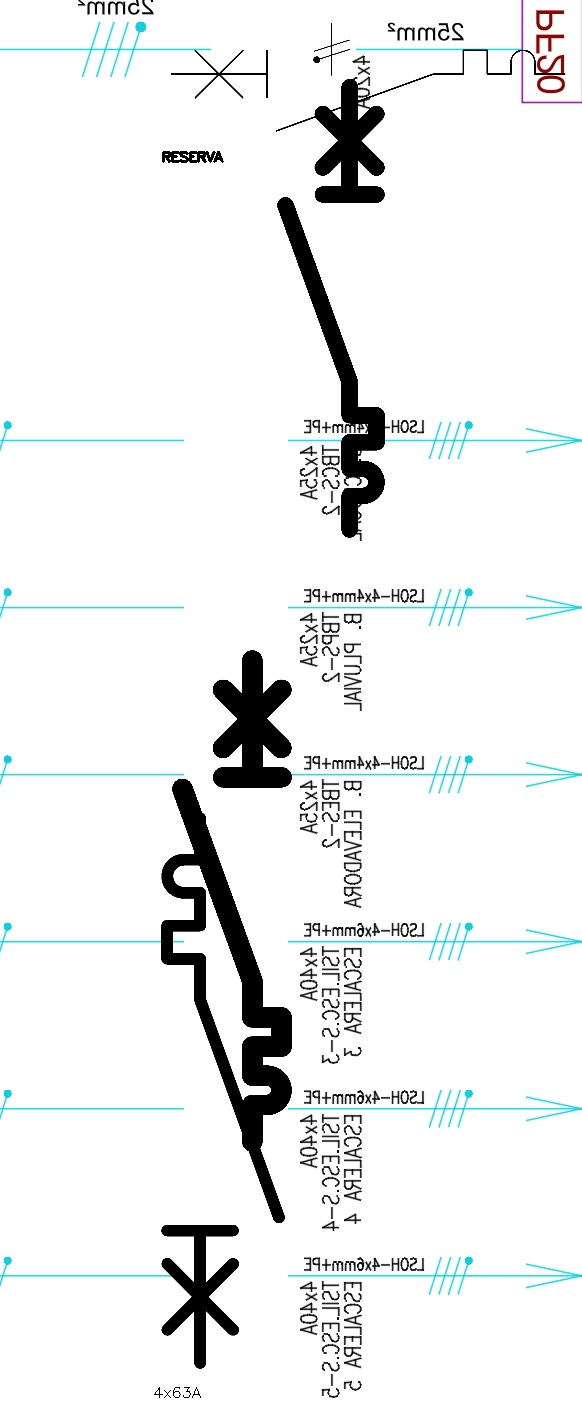interruptor_termomagnetico: (153, 804, 293, 1376), (170, 648, 294, 1154), (274, 75, 388, 540), (161, 40, 575, 141)
